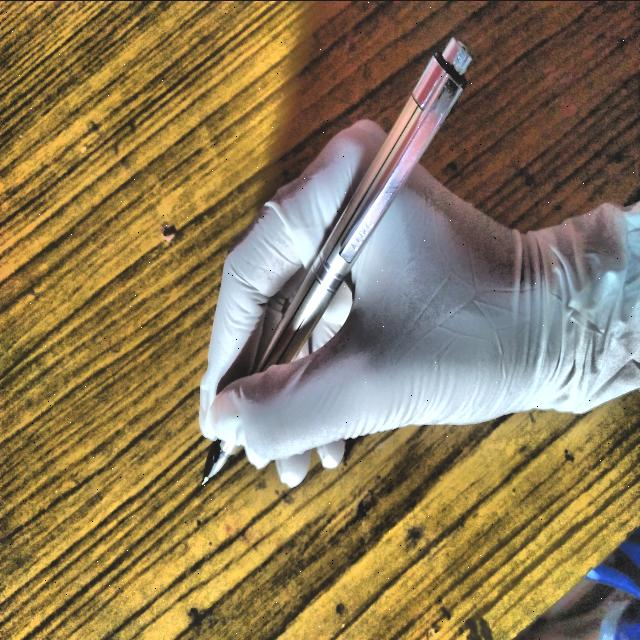gloved: (182, 110, 639, 496)
